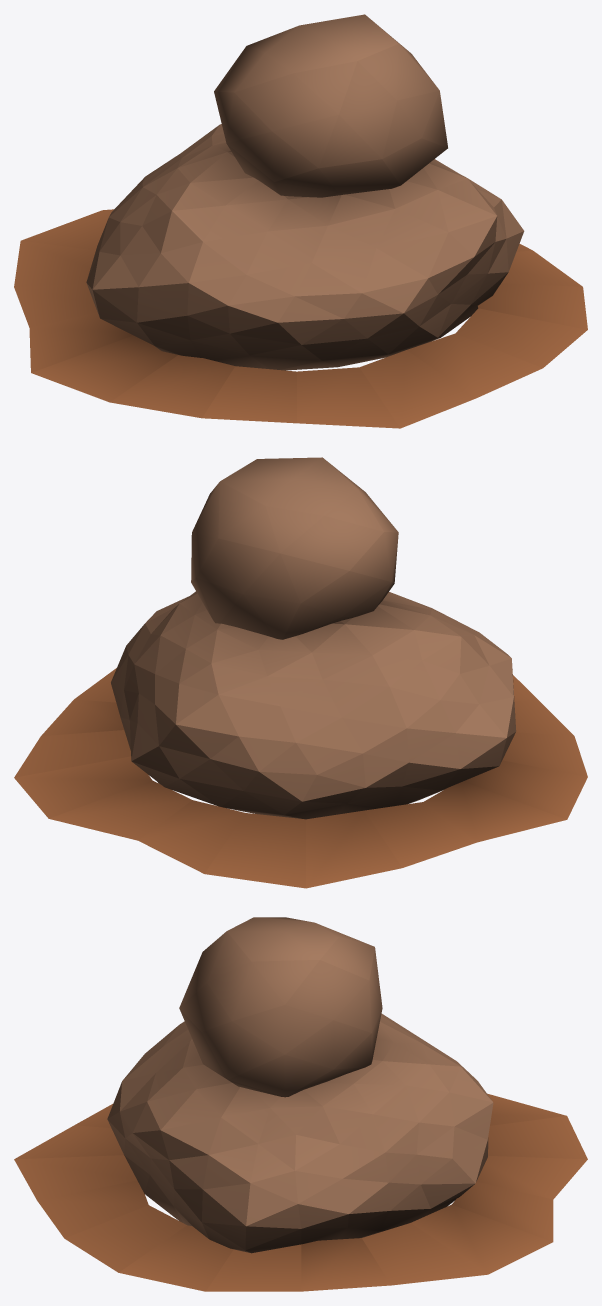
File: boulder_f.glb
3 renders of one model, top to bottom at view 1: azimuth 30°, elevation 25°; view 2: azimuth 150°, elevation 25°; view 3: azimuth 270°, elevation 25°, orthographic. The views are drawn at different scales.
Visible parts, largest first — view 1: Rock; view 2: Rock; view 3: Rock.
Boxes of the visible parts, x1=… form: Rock: x1=14, y1=14, x2=587, y2=428; Rock: x1=14, y1=457, x2=587, y2=888; Rock: x1=14, y1=917, x2=587, y2=1291.
Size of the model in its own units: 2.75 by 1.49 by 2.83.
